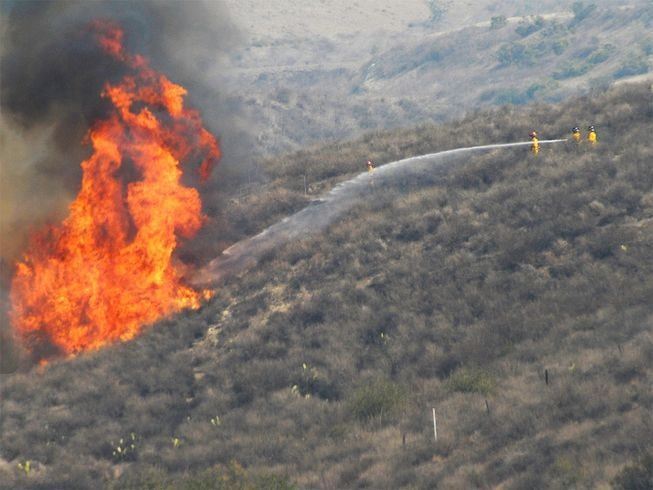Fire: (8, 109, 189, 363)
Smoke: (5, 1, 104, 115)
